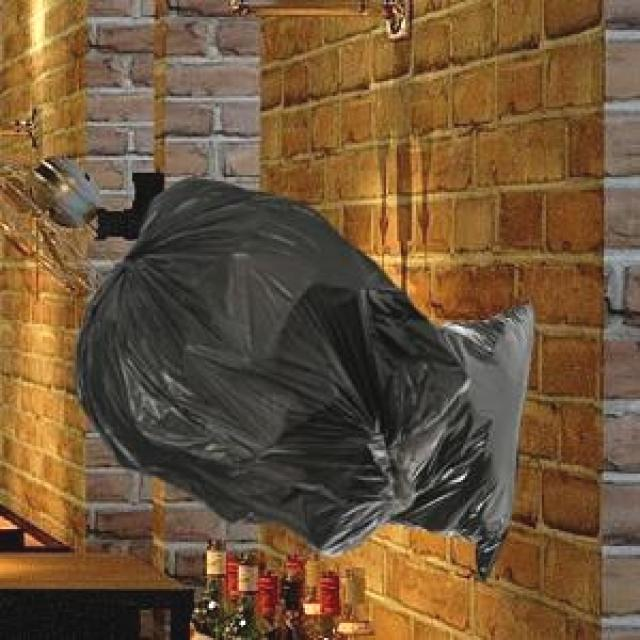Trashbag: (70, 171, 472, 563)
